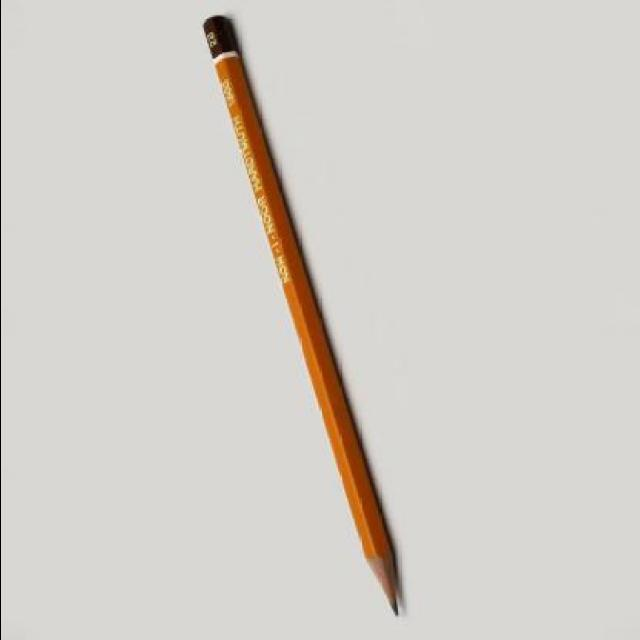pencil: (350, 530, 408, 628)
